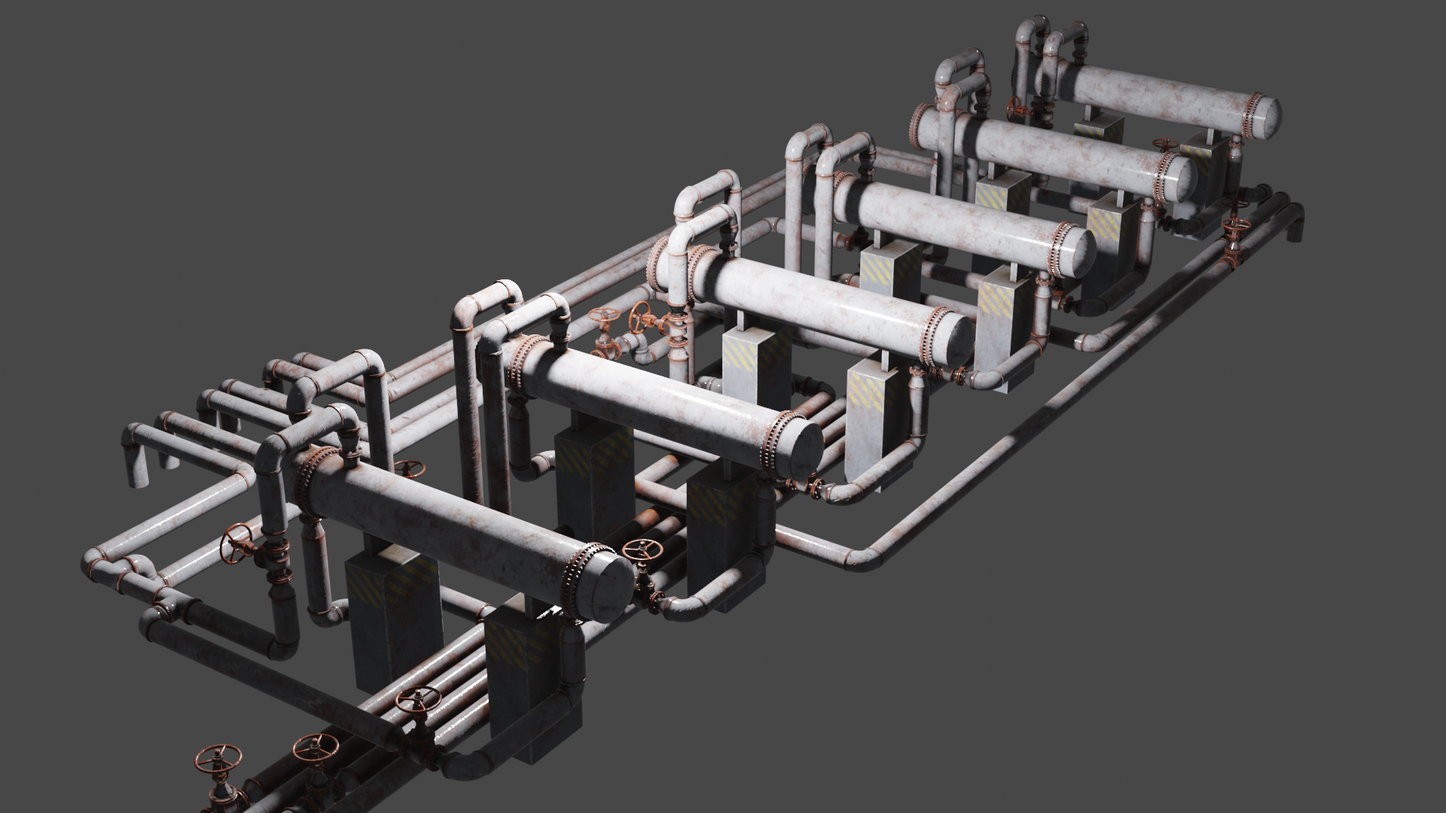HE_1: (1009, 51, 1281, 138)
HE_2: (907, 102, 1195, 201)
HE_3: (804, 167, 1098, 277)
HE_4: (645, 234, 973, 368)
HE_5: (501, 330, 822, 479)
HE_6: (281, 437, 638, 623)
